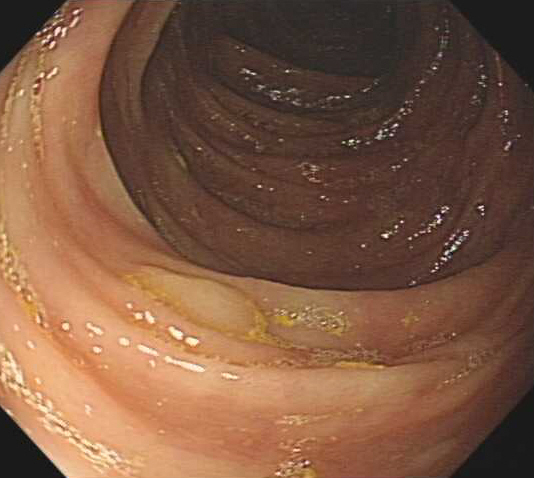others: (133, 261, 267, 342)
